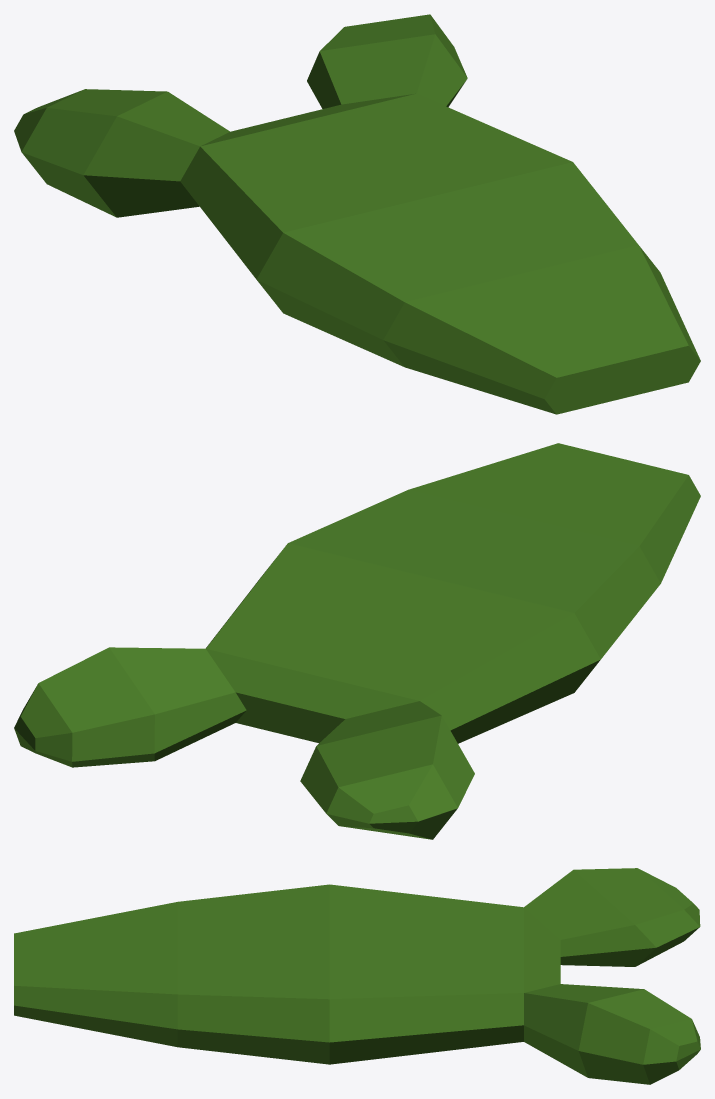
Rendered from cactus_4.fbx.
3 views of the same model, one above another, from view 1: azimuth 30°, elevation 25°; view 2: azimuth 150°, elevation 25°; view 3: azimuth 270°, elevation 25° (orthographic). The views are drawn at different scales.
Parts seen in each view (by area): view 1: cactus_4; view 2: cactus_4; view 3: cactus_4.
Boxes of the visible parts, x1=… form: cactus_4: x1=14, y1=14, x2=700, y2=414; cactus_4: x1=14, y1=443, x2=700, y2=839; cactus_4: x1=14, y1=868, x2=700, y2=1084.
Size of the model in its own units: 25.52 by 5.67 by 42.89.
